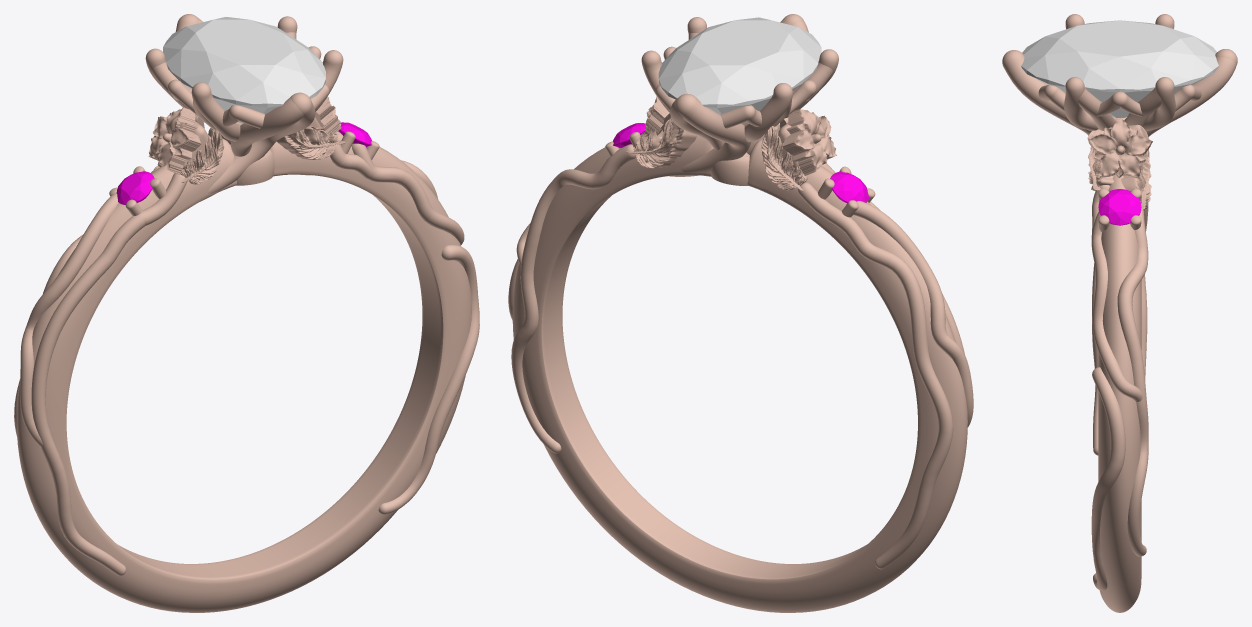
File: DavidV2pinksapph.glb
The picture shows the model from 3 angles, left to right: view 1: azimuth 30°, elevation 25°; view 2: azimuth 150°, elevation 25°; view 3: azimuth 270°, elevation 25°; orthographic projection. The views are drawn at different scales.
Visible parts, largest first — view 1: David RG for 3d model, David dia for 3d model, David pink sapph for 3d model; view 2: David RG for 3d model, David dia for 3d model, David pink sapph for 3d model; view 3: David RG for 3d model, David dia for 3d model, David pink sapph for 3d model.001.
Boxes of the visible parts, box(x1,y1,x2,y2) form: David RG for 3d model: box(14, 14, 479, 612); David dia for 3d model: box(163, 17, 325, 123); David pink sapph for 3d model: box(116, 171, 154, 204); David RG for 3d model: box(508, 14, 973, 612); David dia for 3d model: box(658, 17, 821, 123); David pink sapph for 3d model: box(830, 171, 869, 202); David RG for 3d model: box(1002, 14, 1237, 612); David dia for 3d model: box(1021, 20, 1218, 117); David pink sapph for 3d model.001: box(1098, 189, 1141, 225).
Size of the model in its own units: 21.72 by 25.42 by 9.85.
